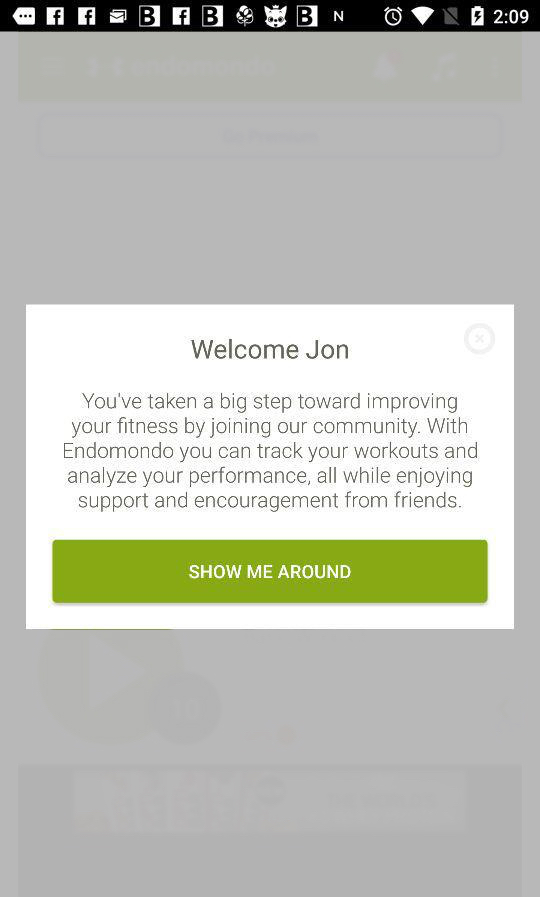Icon: (464, 323, 496, 355)
Modal: (26, 304, 515, 630)
Text: (64, 392, 478, 513), (190, 339, 349, 361)
TextButton: (53, 539, 488, 604)
UpperTaskBar: (1, 1, 540, 33)
